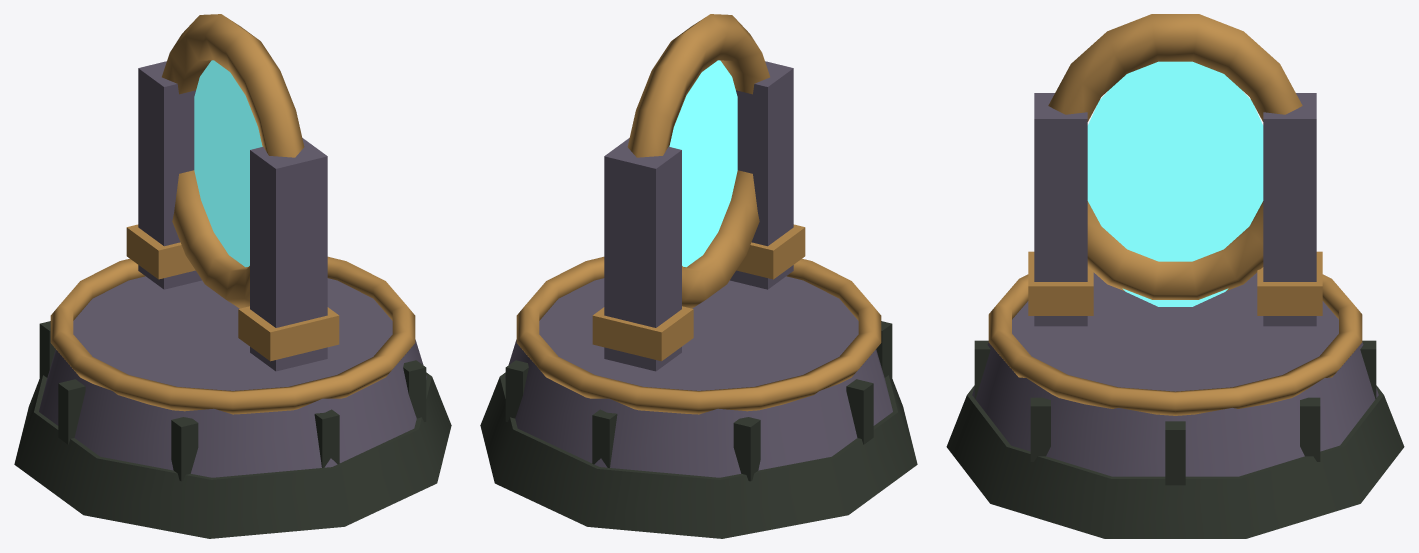
The model's file is tower_portal_portalReturn.glb.
3 renders of one model, left to right at view 1: azimuth 30°, elevation 25°; view 2: azimuth 150°, elevation 25°; view 3: azimuth 270°, elevation 25°, orthographic. The views are drawn at different scales.
Parts seen in each view (by area): view 1: stone_1, foot_0, rim_2, arch_pillar_11, arch_15, portal_surface_16, arch_pillar_13, band_12, band_14, mortar_6, mortar_7, mortar_5 (+2 smaller); view 2: stone_1, foot_0, rim_2, arch_pillar_13, arch_15, portal_surface_16, arch_pillar_11, band_14, band_12, mortar_8, mortar_7, mortar_9 (+2 smaller); view 3: stone_1, portal_surface_16, foot_0, arch_15, rim_2, arch_pillar_11, arch_pillar_13, band_12, band_14, mortar_3, mortar_4, mortar_10 (+2 smaller).
Part boxes in pixels (x1,y1,x2,y2): stone_1: [39, 276, 426, 477]; foot_0: [14, 372, 451, 538]; rim_2: [50, 256, 415, 414]; arch_pillar_11: [250, 138, 327, 371]; arch_15: [162, 14, 304, 308]; portal_surface_16: [194, 60, 262, 267]; arch_pillar_13: [138, 61, 201, 289]; band_12: [238, 306, 339, 361]; band_14: [126, 224, 195, 279]; mortar_6: [171, 417, 198, 481]; mortar_7: [58, 379, 85, 444]; mortar_5: [314, 409, 339, 467]; stone_1: [505, 276, 892, 477]; foot_0: [480, 372, 917, 538]; rim_2: [516, 256, 881, 414]; arch_pillar_13: [604, 138, 681, 371]; arch_15: [627, 14, 769, 308]; portal_surface_16: [669, 60, 737, 267]; arch_pillar_11: [730, 61, 793, 289]; band_14: [592, 306, 693, 361]; band_12: [736, 224, 805, 279]; mortar_8: [733, 417, 760, 481]; mortar_7: [846, 379, 873, 444]; mortar_9: [592, 409, 617, 467]; stone_1: [972, 272, 1378, 476]; portal_surface_16: [1087, 61, 1263, 306]; foot_0: [946, 385, 1404, 538]; arch_15: [1048, 14, 1302, 299]; rim_2: [988, 274, 1362, 415]; arch_pillar_11: [1034, 93, 1087, 326]; arch_pillar_13: [1263, 93, 1316, 326]; band_12: [1028, 251, 1093, 315]; band_14: [1257, 251, 1322, 315]; mortar_3: [1165, 421, 1185, 485]; mortar_4: [1030, 397, 1050, 461]; mortar_10: [1300, 397, 1320, 461].
Bounding box in the file's own units: 0.5326 × 0.5841 × 0.56.
